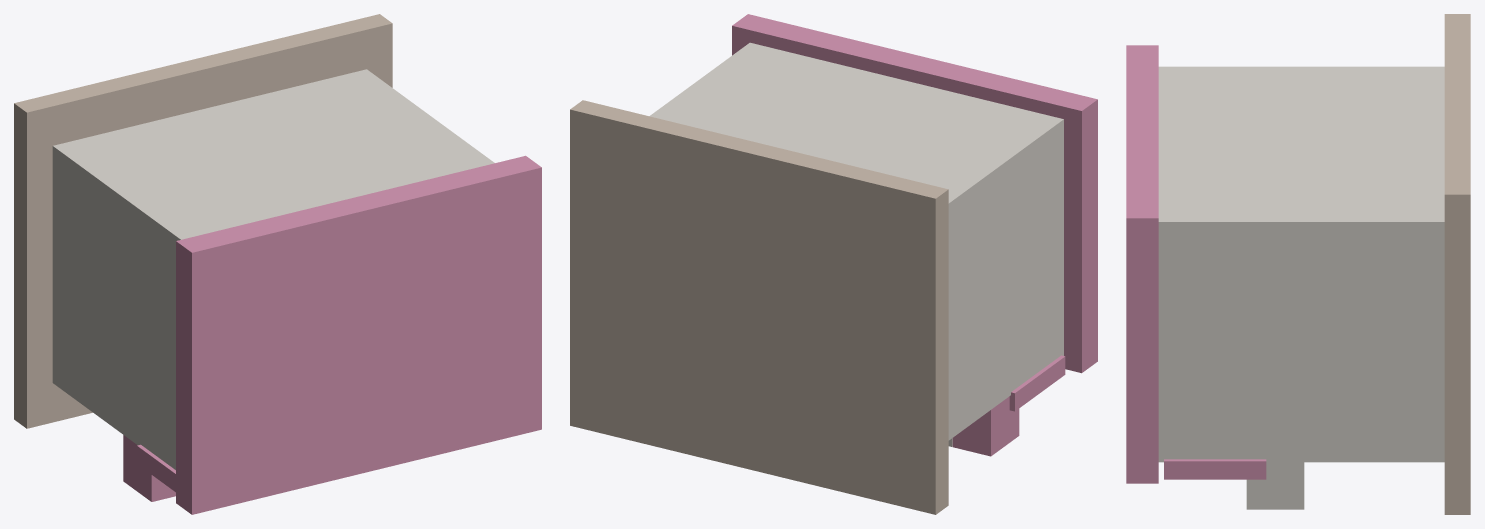
Rendered from fashion_lod2.glb.
3 renders of one model, left to right at view 1: azimuth 30°, elevation 25°; view 2: azimuth 150°, elevation 25°; view 3: azimuth 270°, elevation 25°, orthographic.
Visible parts, largest first — view 1: roof_2, walls_1, plinth_0, awning_5, signboard_3; view 2: plinth_0, walls_1, roof_2, awning_5, signboard_3; view 3: walls_1, roof_2, plinth_0, awning_12, signboard_3.
Part boxes in pixels (x1=…): roof_2: x1=176, y1=155, x2=541, y2=514; walls_1: x1=52, y1=69, x2=494, y2=469; plinth_0: x1=14, y1=14, x2=392, y2=428; awning_5: x1=123, y1=435, x2=175, y2=501; signboard_3: x1=137, y1=444, x2=175, y2=492; plinth_0: x1=570, y1=100, x2=948, y2=514; walls_1: x1=649, y1=42, x2=1063, y2=440; roof_2: x1=732, y1=14, x2=1097, y2=373; awning_5: x1=952, y1=396, x2=1019, y2=456; signboard_3: x1=1009, y1=355, x2=1065, y2=411; walls_1: x1=1158, y1=66, x2=1444, y2=462; roof_2: x1=1126, y1=45, x2=1158, y2=483; plinth_0: x1=1444, y1=14, x2=1470, y2=514; awning_12: x1=1246, y1=462, x2=1304, y2=509; signboard_3: x1=1164, y1=459, x2=1266, y2=479.
Bounding box in the file's own units: 4.6 × 3.9 × 3.7.
